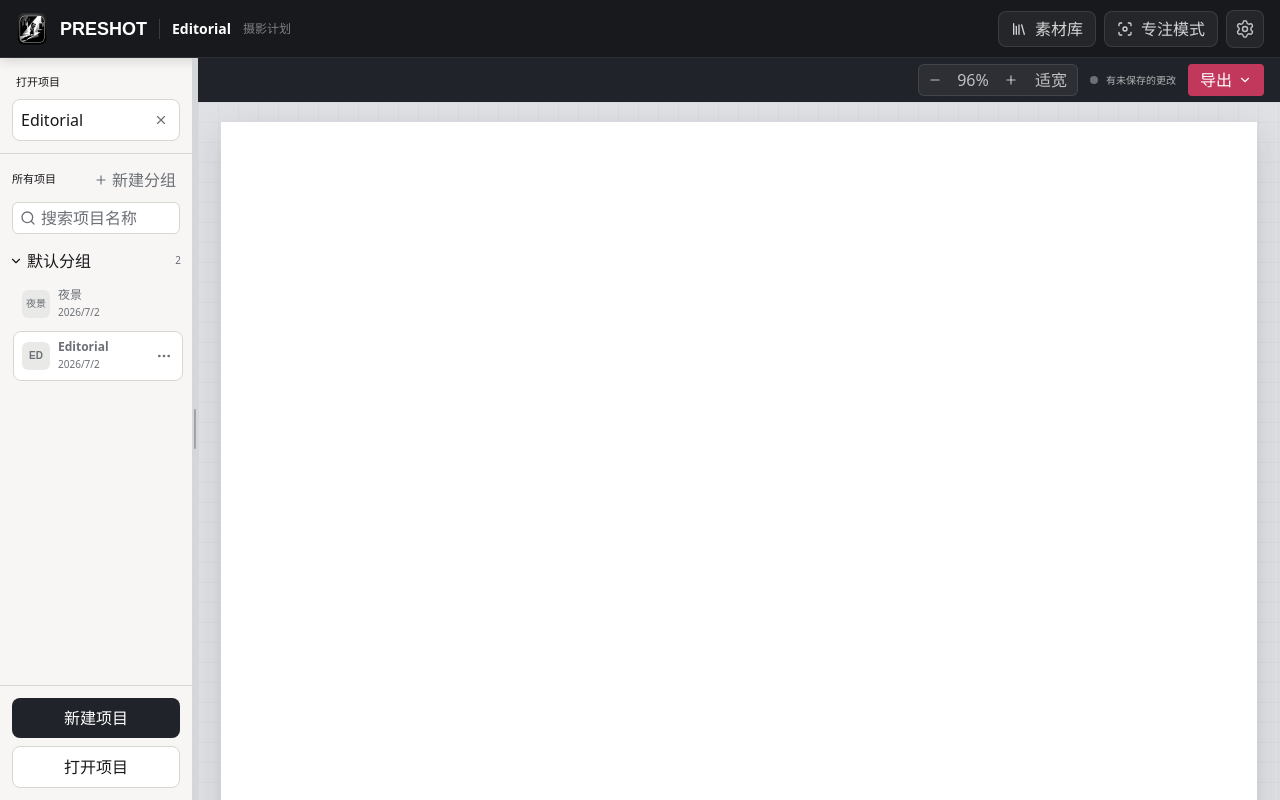
Test: App › stops progress when the destination plan is incompatible
Click the button with aria-label "打开项目 夜景".
click(98, 304)  # box [14, 280, 182, 328]
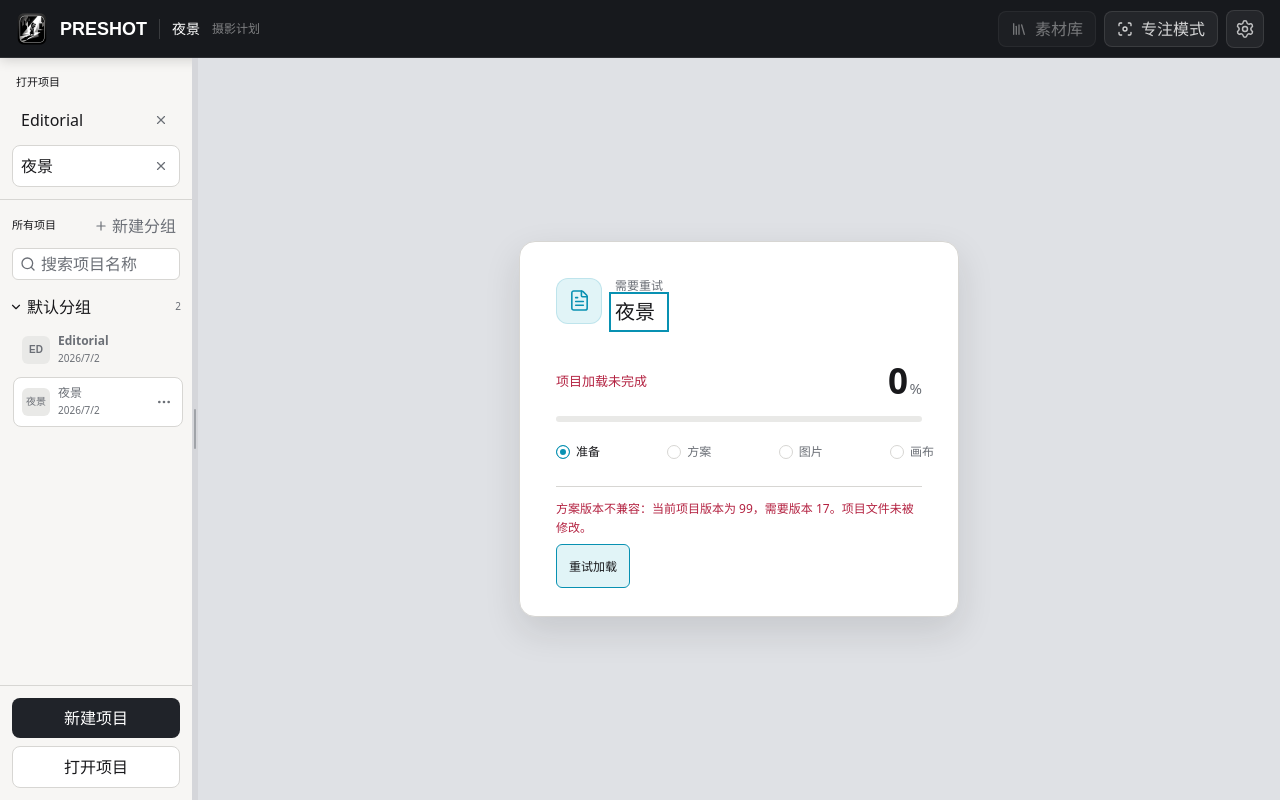
Now the message shows "方案版本不兼容", box [556, 500, 914, 536]
Now the button "重试加载" is shown, box [556, 544, 630, 588]
